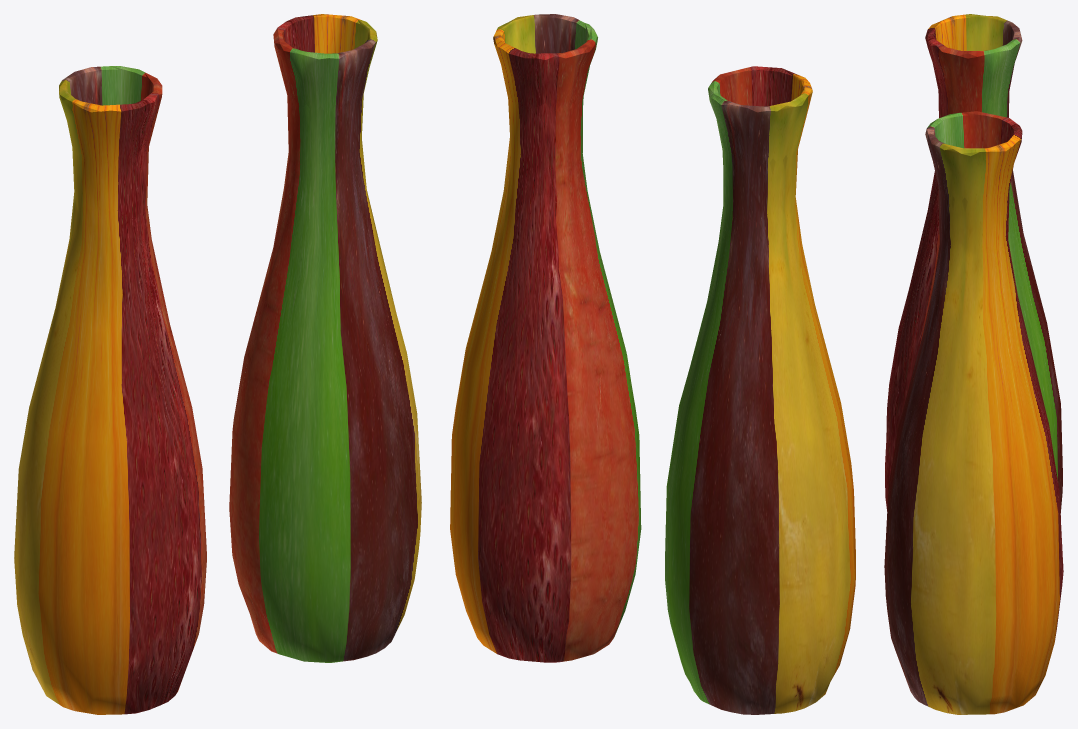
The model's file is Vases 1.FBX.
The picture shows the model from 3 angles, left to right: view 1: azimuth 30°, elevation 25°; view 2: azimuth 150°, elevation 25°; view 3: azimuth 270°, elevation 25°; orthographic projection. The views are drawn at different scales.
Visible parts, largest first — view 1: Vase 1, Vase 2; view 2: Vase 2, Vase 1; view 3: Vase 2, Vase 1.
Part boxes in pixels (x1,y1,x2,y2): Vase 1: (14, 66, 206, 714); Vase 2: (229, 14, 421, 662); Vase 2: (450, 14, 641, 662); Vase 1: (665, 66, 855, 714); Vase 2: (884, 111, 1063, 714); Vase 1: (885, 14, 1062, 512).
Bounding box in the file's own units: 23.65 × 10.35 × 35.69.
Materials: 1 (1 with a texture image).
